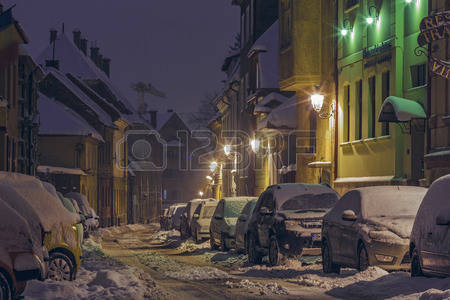car: (322, 184, 412, 273), (245, 183, 343, 258), (411, 175, 450, 275)
